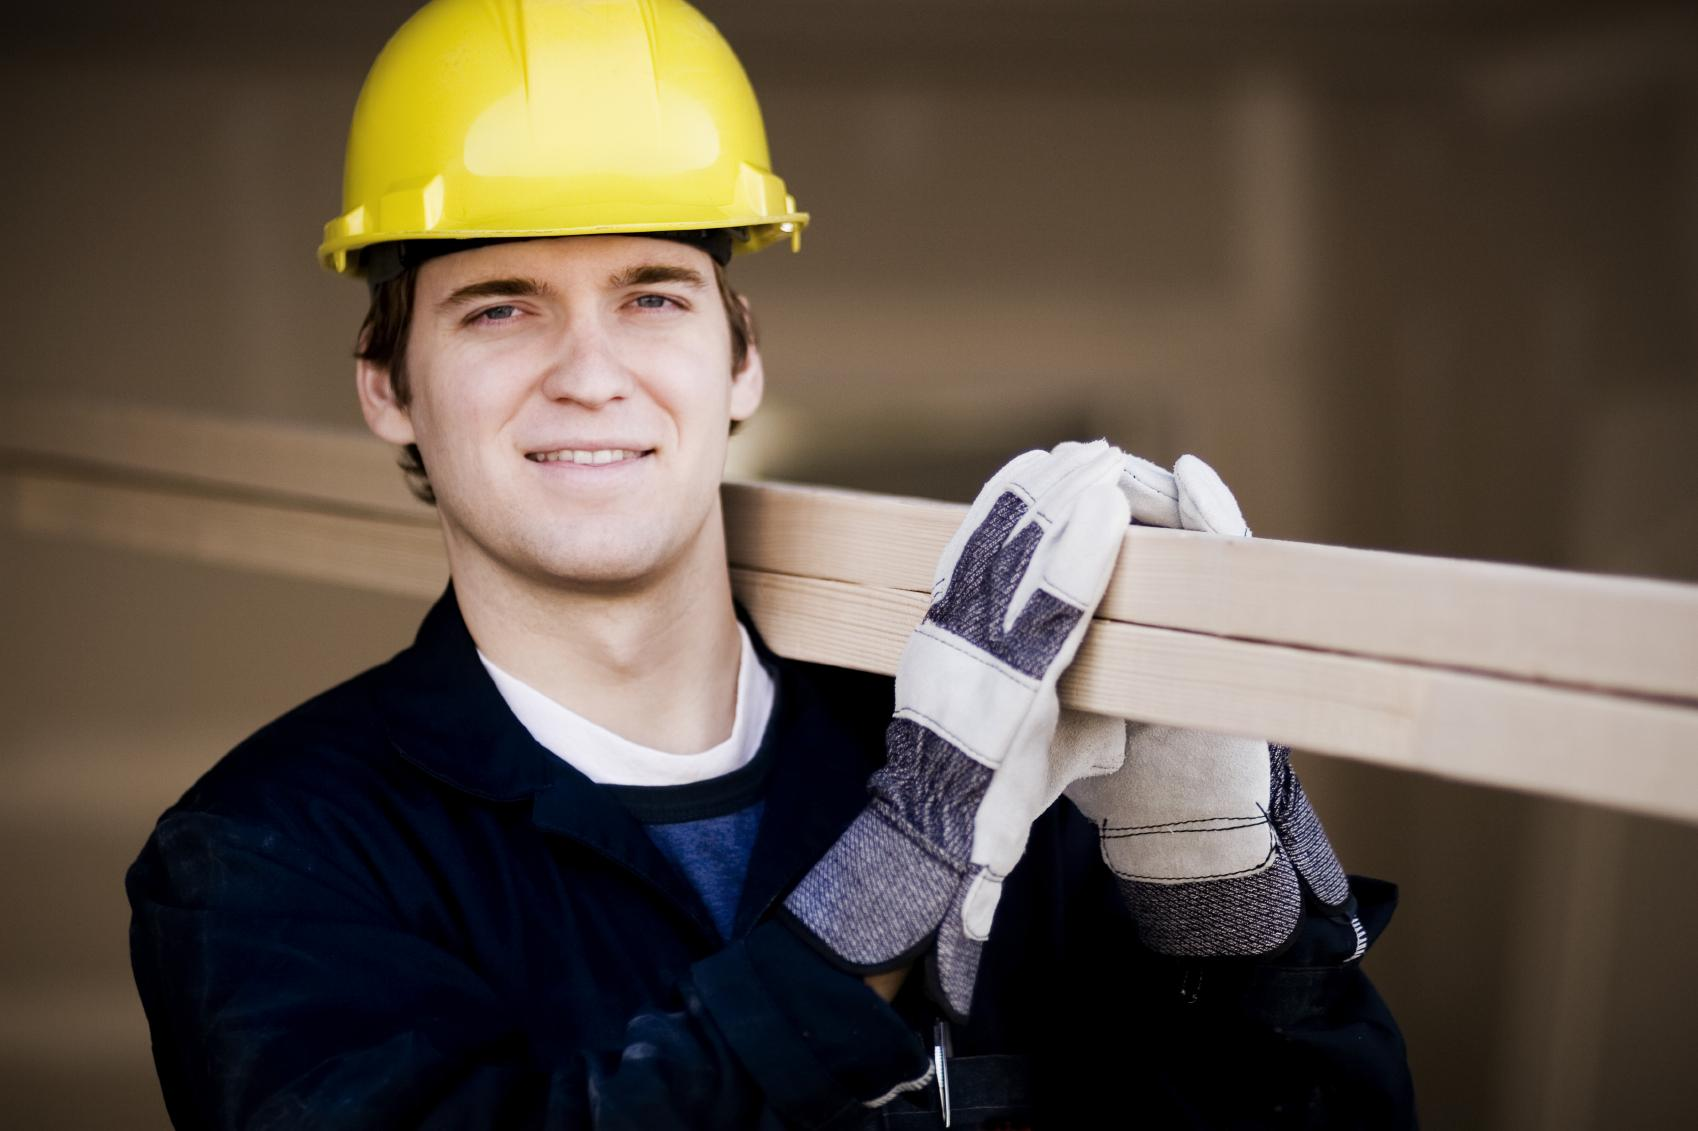helmet: (314, 1, 809, 274)
